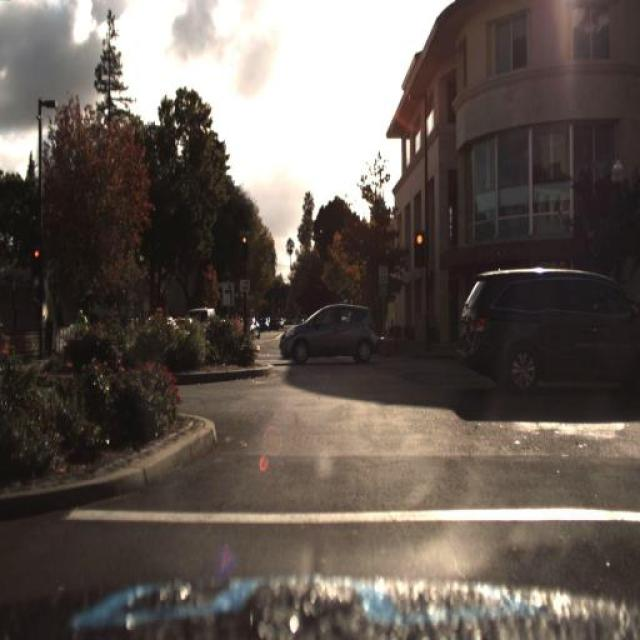car: (456, 268, 640, 399), (275, 290, 381, 382), (275, 296, 380, 372), (182, 305, 222, 347)
trafficLight-RedLeft: (411, 222, 425, 262), (31, 238, 43, 268), (239, 222, 249, 253)
